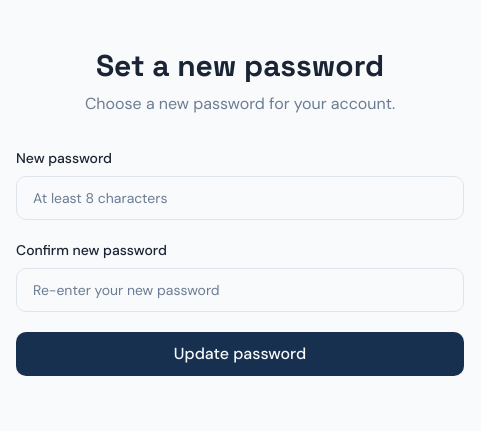
ResetPasswordPage › reports a safe recovery-specific error when Supabase rejects the update
The width and height of the screenshot is (481, 431).
Type "ValidPassword123!" into the password field labelled "New password". click: (240, 198)
box: [16,176,464,220]
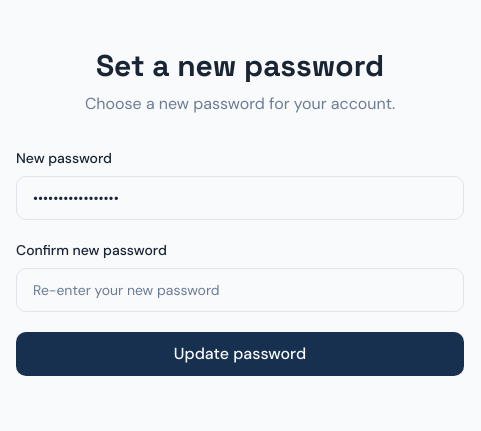
Type "ValidPassword123!" into the password field labelled "Confirm new password". click: (240, 290)
box: [16,268,464,312]
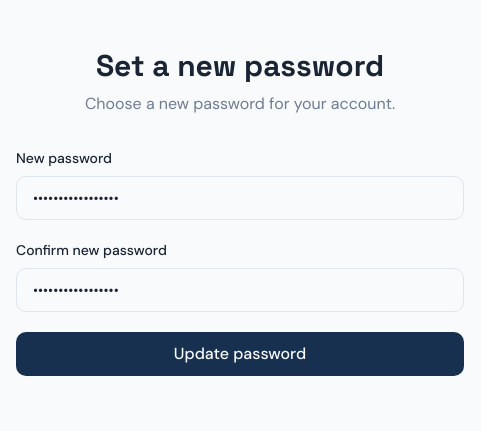
Click the button "Update password". click: (240, 354)
box: [16,332,464,376]
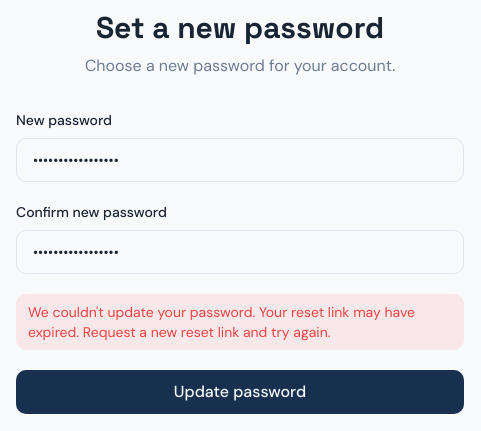
Result: the text "Your reset link may have expired" is shown at [28,303,415,341]
